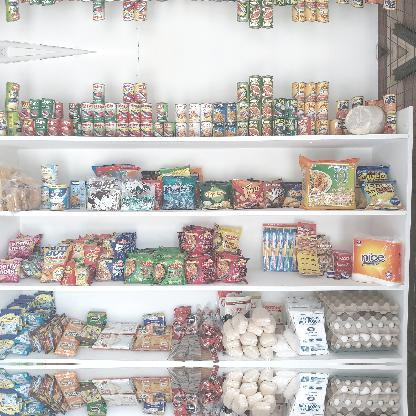Lady-s-Choice: (346, 104, 386, 134)
